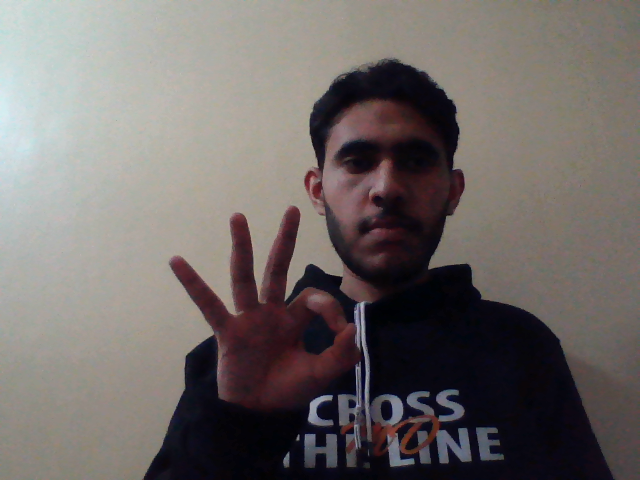F: (167, 199, 366, 419)
